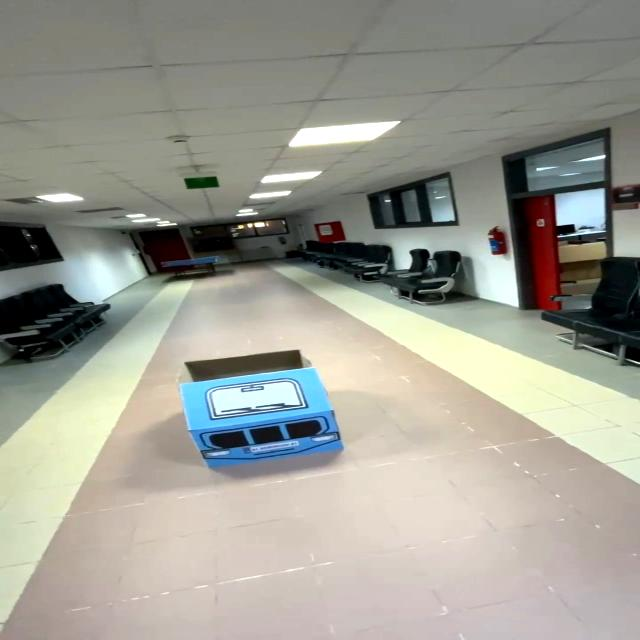blue_car: (135, 330, 381, 499)
